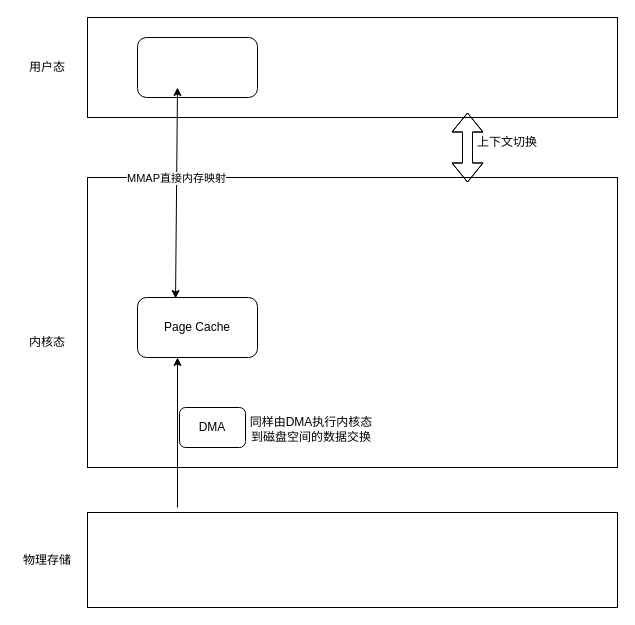
Some shapes in this 635 by 625 pixel diagram are drawn without their labels. Here are the shapes that lost their labels. From the top down, the box of each, then its label:
(136, 36, 258, 98): 缓冲区
(86, 512, 618, 608): 磁盘读取时，会寻找到磁道，再找到扇区，这个过程就是寻址
